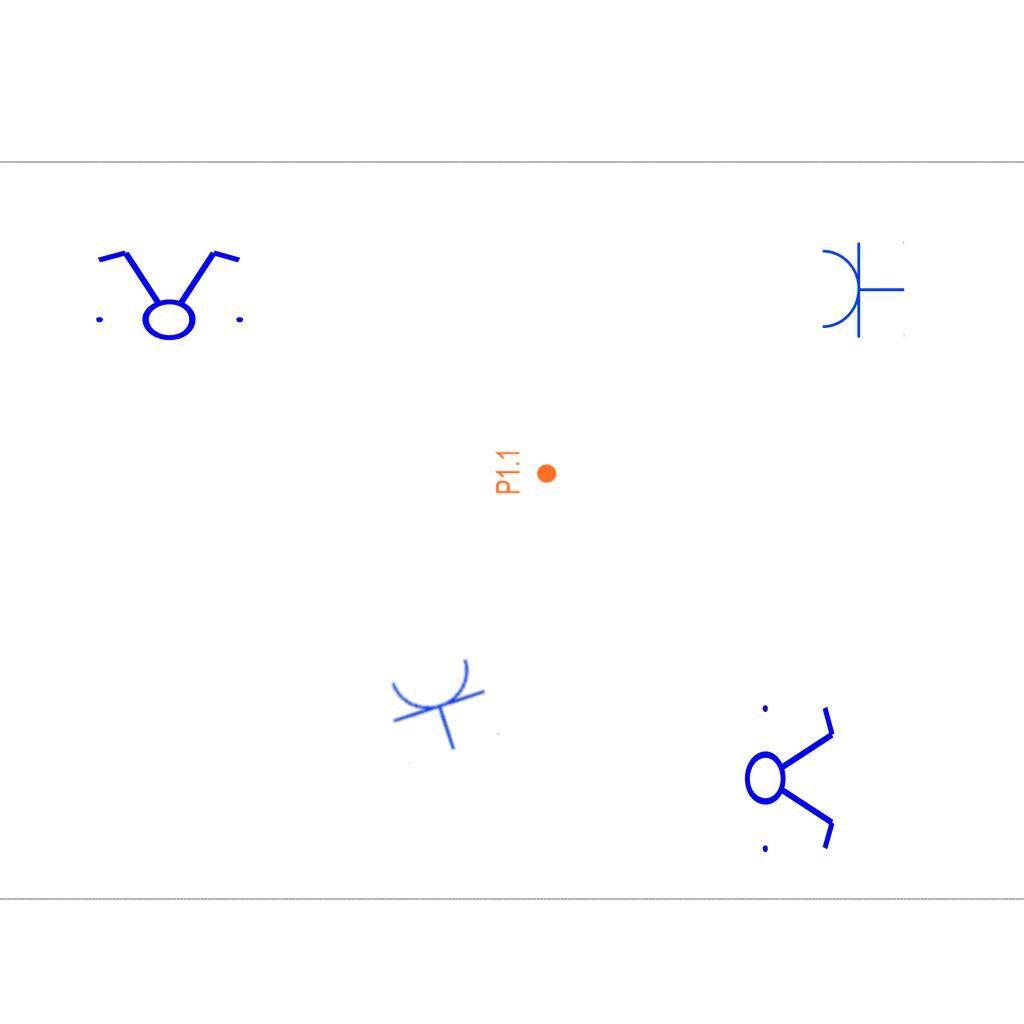Downlight_LED_Einbauleuchten_Flur: (494, 449, 558, 495)
Schukosteckdose_einfach: (380, 651, 502, 766), (818, 239, 905, 339)
Serienschalter: (84, 246, 252, 342), (743, 693, 839, 861)
